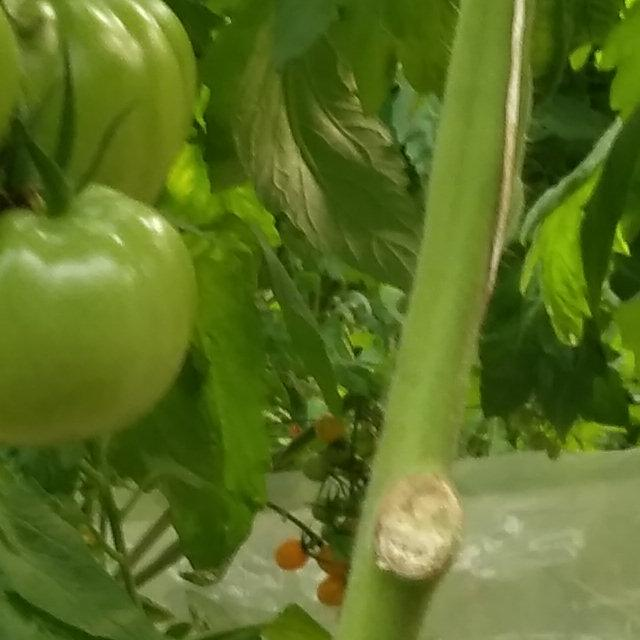tomato: (0, 0, 290, 540)
